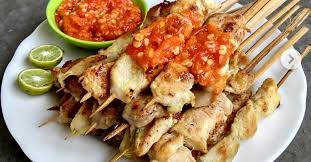sate: (49, 6, 285, 162)
